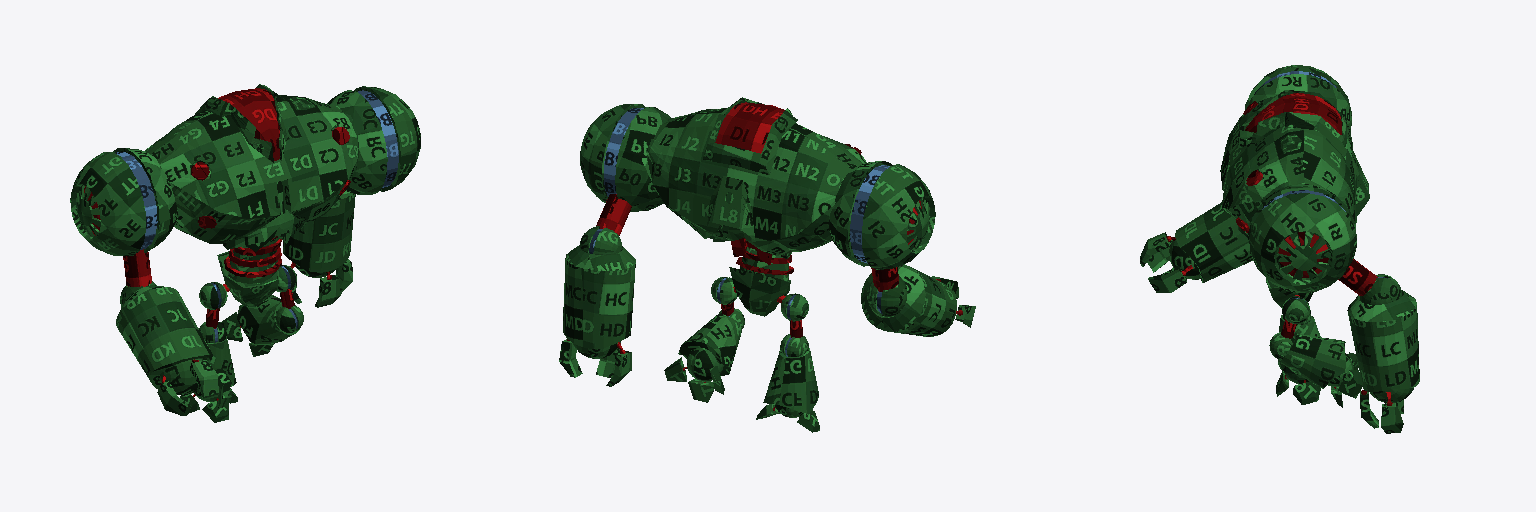
3 views of the same model, side by side, from view 1: azimuth 30°, elevation 25°; view 2: azimuth 150°, elevation 25°; view 3: azimuth 270°, elevation 25° (orthographic).
Parts seen in each view (by area): view 1: TopTorso, L_Shoulder4, L_Shoulder, R_Forearm, L_Forearm, InnerHead, Stomach, L_Shin, OutSideHead, Pelvis, MiddleTorso, L_Wrist4 (+7 smaller); view 2: TopTorso, L_Shoulder4, L_Shoulder, L_Forearm, R_Forearm, L_Shin4, OutSideHead, InnerHead, L_Shin, OuterJetPack, Pelvis, Stomach (+7 smaller); view 3: L_Shoulder, TopTorso, L_Forearm, R_Forearm, L_Shoulder4, L_Shin, OutSideHead, InnerHead, L_Elbow, L_Bicep, R_Claw3, L_HIp (+3 smaller).
Boxes of the visible parts, <box> form: TopTorso: <box>144,95,358,243</box>; L_Shoulder4: <box>70,148,177,255</box>; L_Shoulder: <box>327,86,420,194</box>; R_Forearm: <box>116,285,212,389</box>; L_Forearm: <box>283,191,355,272</box>; InnerHead: <box>218,88,279,160</box>; Stomach: <box>224,236,281,283</box>; L_Shin: <box>237,295,299,344</box>; OutSideHead: <box>195,84,286,162</box>; Pelvis: <box>217,251,278,306</box>; MiddleTorso: <box>223,181,306,249</box>; L_Wrist4: <box>159,359,206,395</box>; TopTorso: <box>642,108,866,255</box>; L_Shoulder4: <box>829,161,935,269</box>; L_Shoulder: <box>580,104,670,211</box>; L_Forearm: <box>563,245,635,348</box>; R_Forearm: <box>861,264,956,336</box>; L_Shin4: <box>763,348,818,413</box>; OutSideHead: <box>702,97,797,174</box>; InnerHead: <box>715,102,784,153</box>; L_Shin: <box>678,314,741,375</box>; OuterJetPack: <box>707,176,754,239</box>; Pelvis: <box>729,267,790,316</box>; Stomach: <box>736,241,793,281</box>; L_Shoulder: <box>1249,184,1356,292</box>; TopTorso: <box>1220,94,1356,236</box>; L_Forearm: <box>1347,290,1419,391</box>; R_Forearm: <box>1175,202,1252,282</box>; L_Shoulder4: <box>1245,65,1351,133</box>; L_Shin: <box>1278,333,1345,388</box>; OutSideHead: <box>1238,90,1346,159</box>; InnerHead: <box>1245,93,1341,134</box>; L_Elbow: <box>1360,274,1401,304</box>; L_Bicep: <box>1338,259,1377,295</box>; R_Claw3: <box>1148,266,1186,292</box>; L_HIp: <box>1282,296,1309,323</box>.
Bounding box in the file's own units: 4.95 × 4.47 × 3.65.
3 materials, 3 textured.